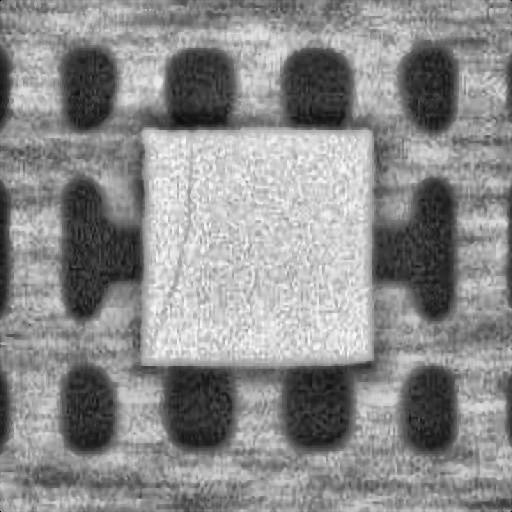DIE_CRACK: (151, 130, 191, 345)
